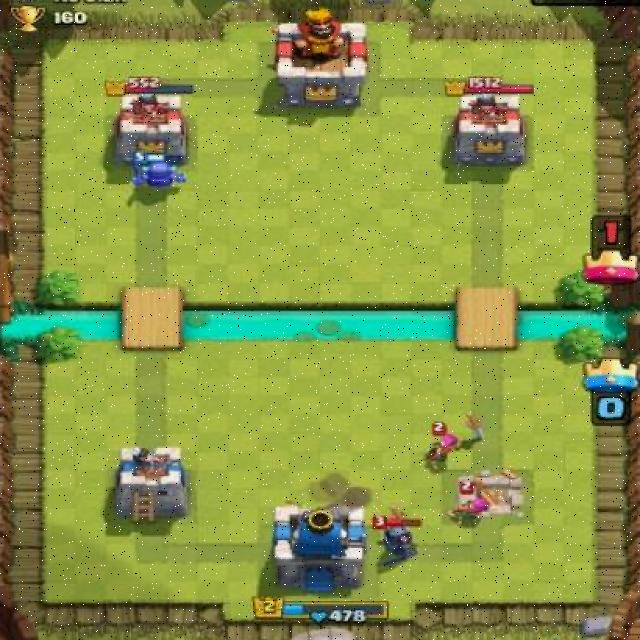Enemy-Archer: (444, 479, 493, 533), (420, 418, 465, 473)
Enemy-MiniPEKKA: (372, 513, 426, 572)
Player-MiniPEKKA: (128, 150, 189, 190)
